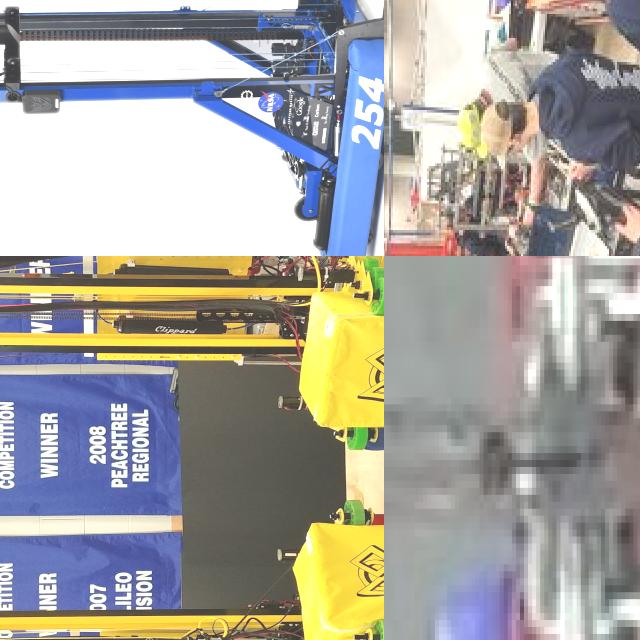FRC-Robots: (0, 0, 384, 256), (384, 256, 640, 640), (0, 256, 384, 498), (0, 531, 384, 640), (430, 122, 543, 256)
